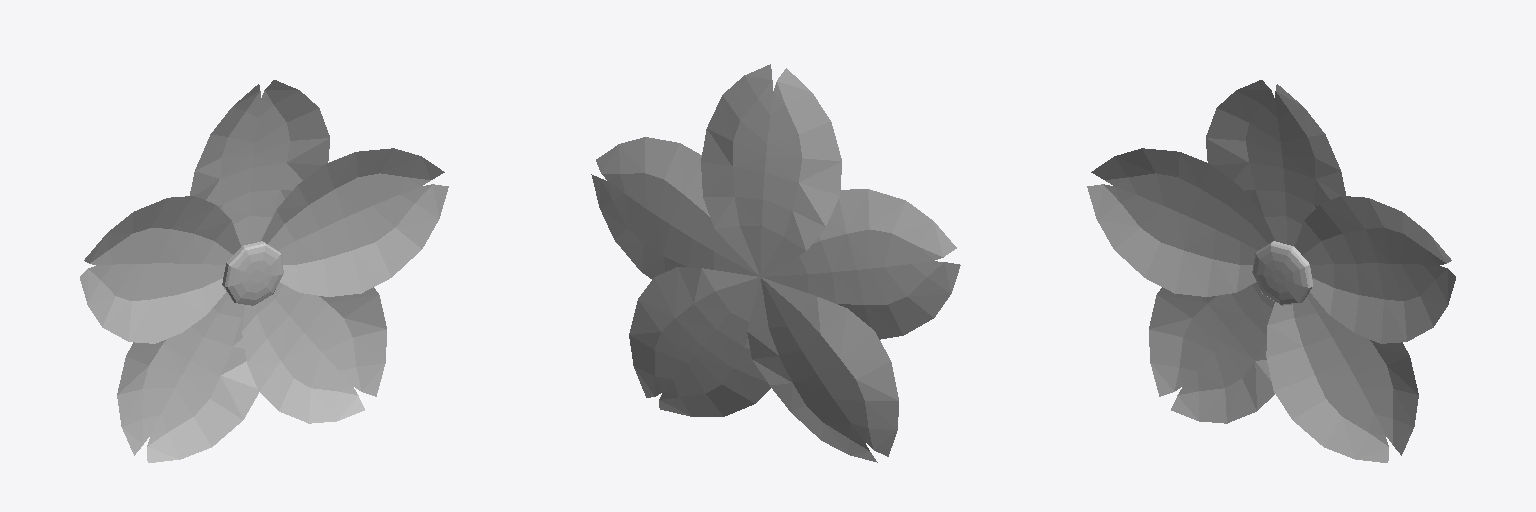
Rendered from sakura.obj.
The picture shows the model from 3 angles: view 1: azimuth 30°, elevation 25°; view 2: azimuth 150°, elevation 25°; view 3: azimuth 330°, elevation 25°; orthographic projection.
Size of the model in its own units: 2.35 by 2.21 by 0.2349.